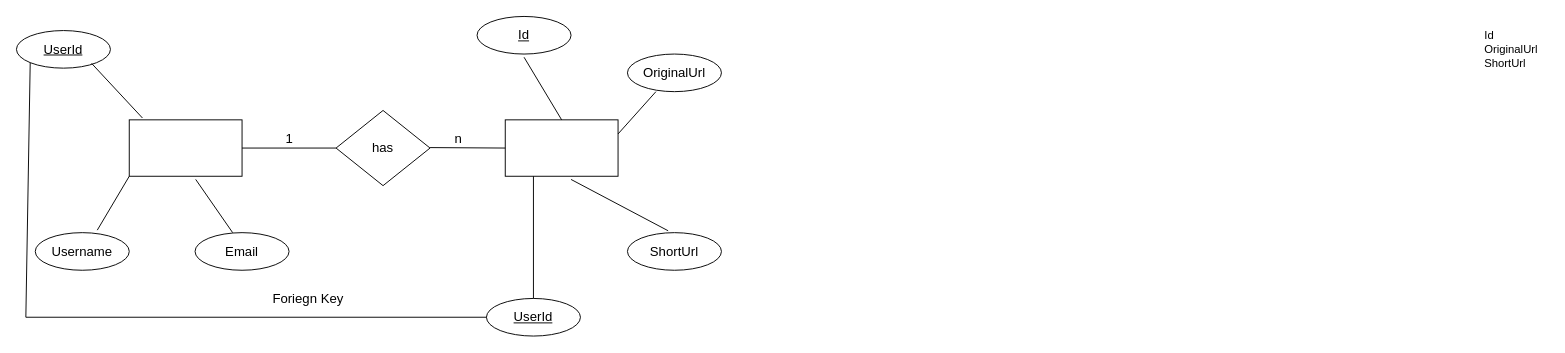
Some shapes in this 1565 by 353 pixel diagram are drawn without their labels. The box of each missing label's shape, as (x1, y1, x2, y2) in pixels:
Url: (504, 119, 618, 176)
User: (128, 119, 242, 176)
